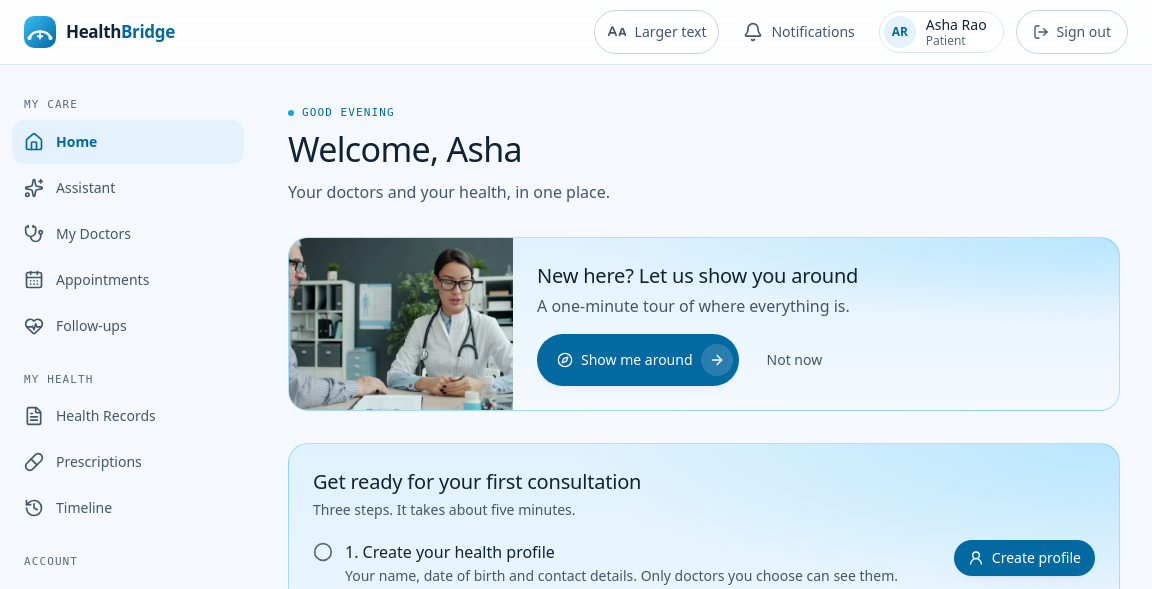
Scenario: the patient tour on the home page › Not now puts it away without running it
The width and height of the screenshot is (1152, 589).
What coordinates should you click on to do the following:
click the button "Not now"
I would click on:
 (794, 360)
Its box is x1=746 y1=334 x2=842 y2=386.
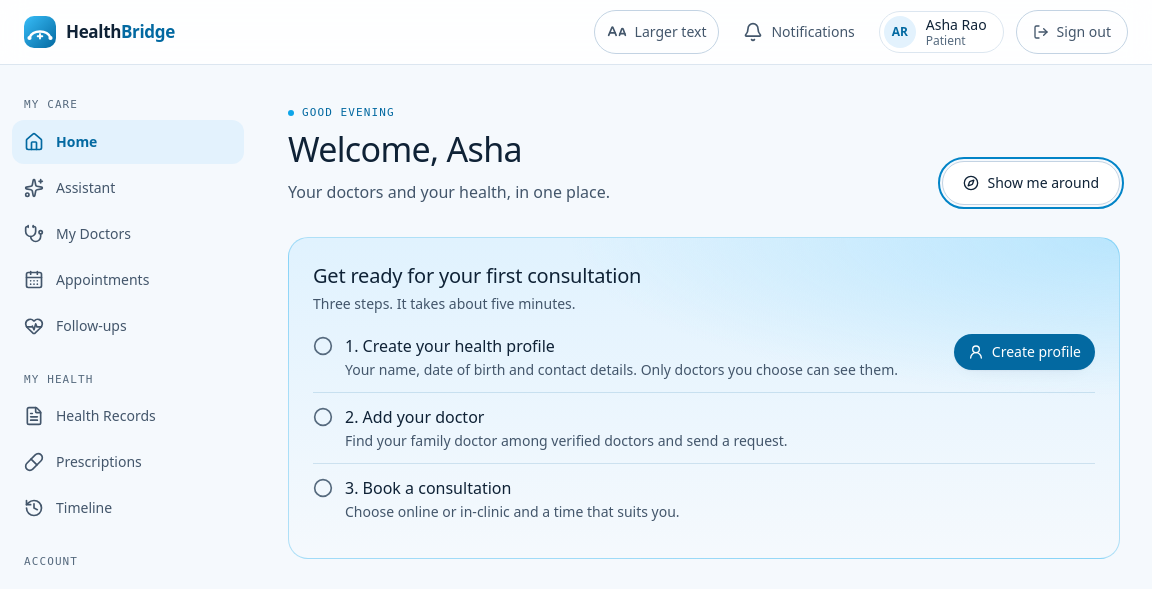
Check: the heading "New here" is gone
